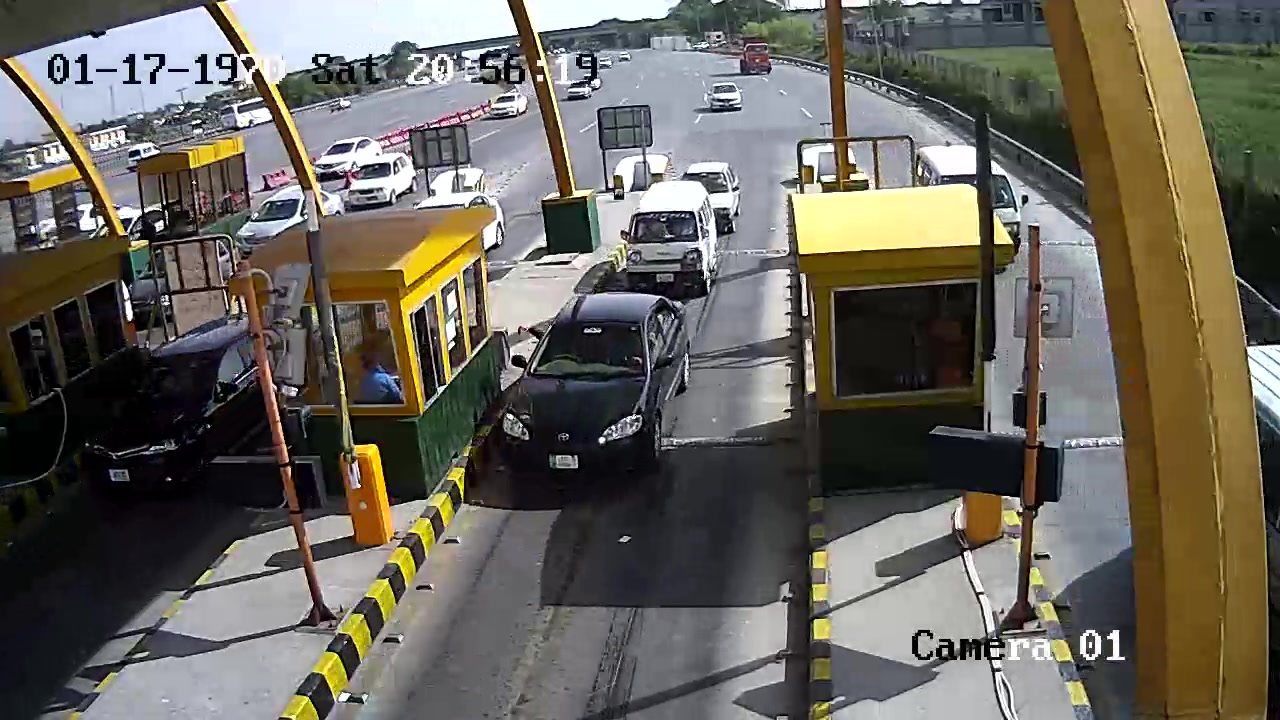F1: (501, 285, 701, 485)
